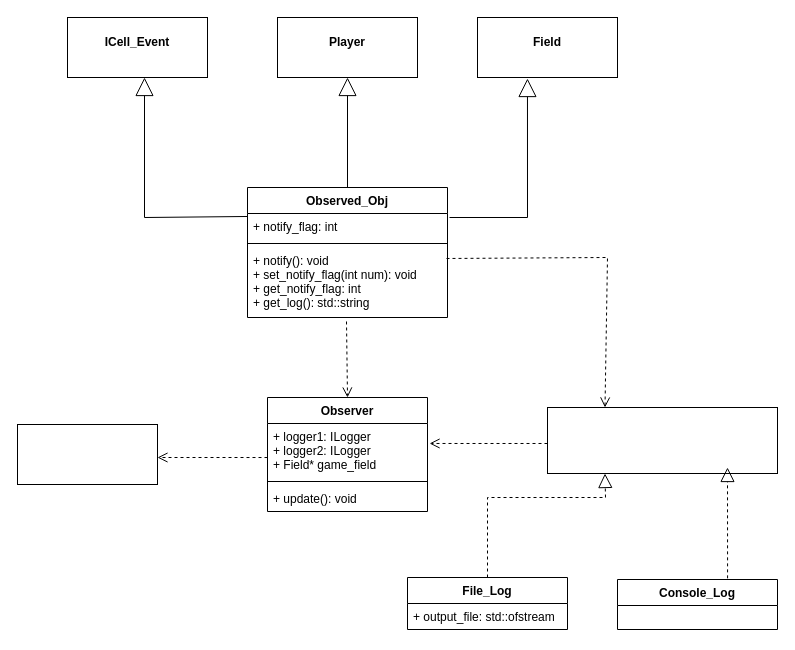
This 795x650 diagram has some shape labels left out. Each missing label, with the centre of its shape:
"<<Interface>> ILogger + output_logs(Observed_Obj* obj): void" belongs at pixel 662 440.
"Controller" belongs at pixel 87 454.
